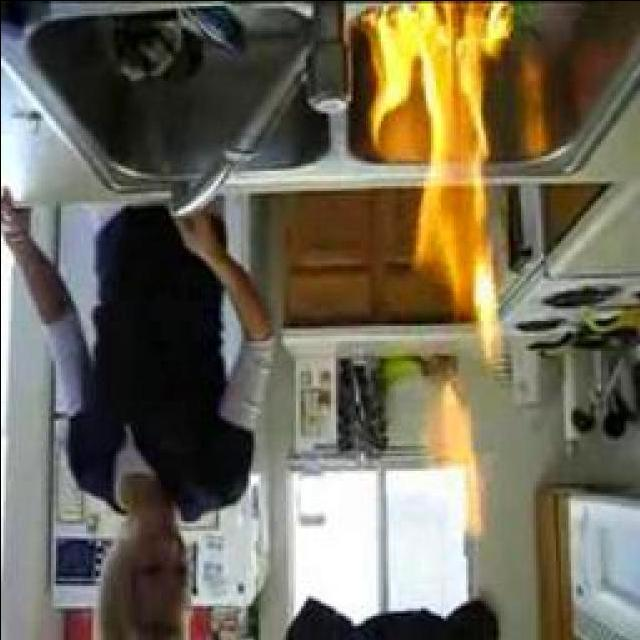Fire: (372, 0, 505, 329), (406, 364, 502, 542)
